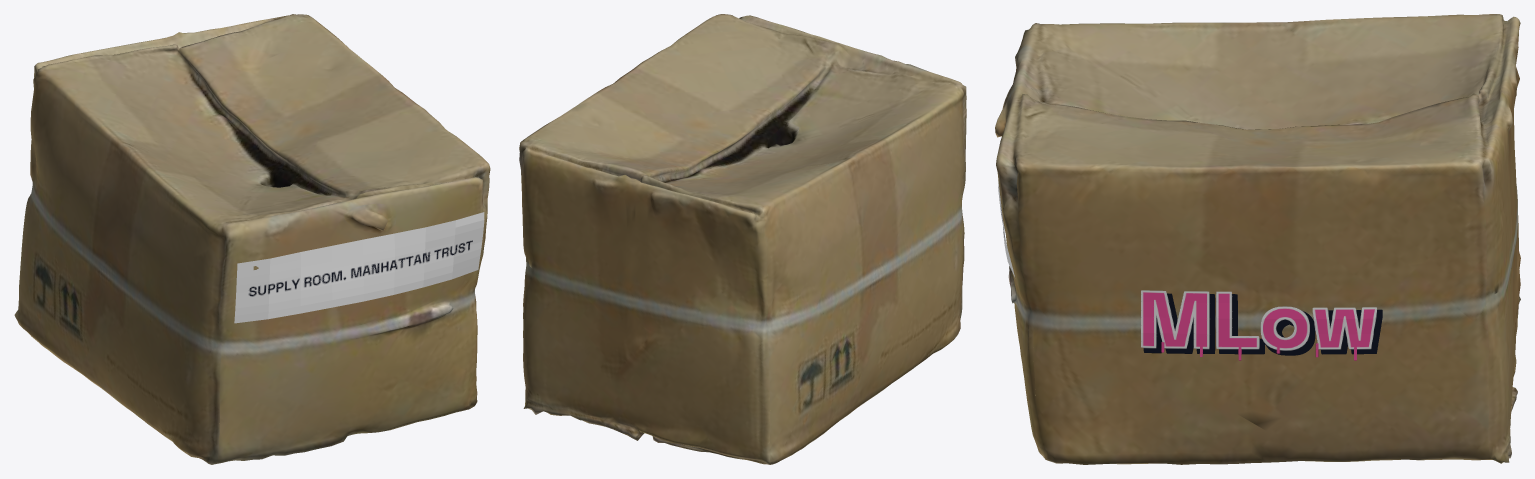
File: nyb_insideman_box.glb
The picture shows the model from 3 angles, left to right: view 1: azimuth 30°, elevation 25°; view 2: azimuth 150°, elevation 25°; view 3: azimuth 270°, elevation 25°; orthographic projection. The views are drawn at different scales.
Parts seen in each view (by area): view 1: cardboard_box_01, stk_lbl_dd345f9660.png; view 2: cardboard_box_01; view 3: cardboard_box_01, stk_tag_mlow.png.
Part boxes in pixels (<box>): cardboard_box_01: <box>14,14,490,464</box>; stk_lbl_dd345f9660.png: <box>234,212,484,323</box>; cardboard_box_01: <box>519,14,966,464</box>; cardboard_box_01: <box>995,14,1520,464</box>; stk_tag_mlow.png: <box>1141,290,1382,360</box>.
Size of the model in its own units: 0.3871 by 0.3418 by 0.5159.
3 materials, 3 textured.
